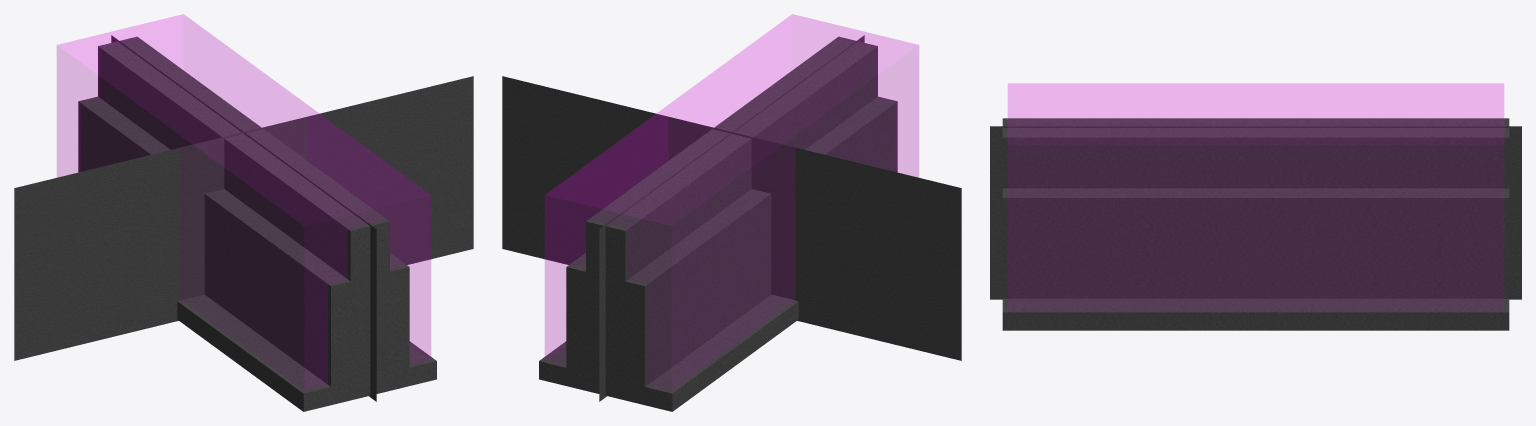
File: krail_dark_2m.dae
3 views of the same model, side by side, from view 1: azimuth 30°, elevation 25°; view 2: azimuth 150°, elevation 25°; view 3: azimuth 270°, elevation 25° (orthographic).
Parts seen in each view (by area): view 1: Colmesh_krail-1, krail_dark_2m_a50, krail_dark_2m_a800, krail_dark_2m_a200; view 2: Colmesh_krail-1, krail_dark_2m_a50, krail_dark_2m_a800, krail_dark_2m_a200; view 3: krail_dark_2m_a800, Colmesh_krail-1, krail_dark_2m_a200, krail_dark_2m_a50.
Part boxes in pixels (x1,y1,x2,y2): Colmesh_krail-1: (57, 14, 430, 390); krail_dark_2m_a50: (14, 35, 473, 401); krail_dark_2m_a800: (78, 36, 436, 411); krail_dark_2m_a200: (204, 214, 409, 386); Colmesh_krail-1: (545, 14, 918, 390); krail_dark_2m_a50: (502, 35, 961, 401); krail_dark_2m_a800: (539, 36, 897, 411); krail_dark_2m_a200: (568, 97, 897, 386); krail_dark_2m_a800: (1002, 118, 1509, 330); Colmesh_krail-1: (1008, 83, 1503, 309); krail_dark_2m_a200: (1002, 188, 1503, 298); krail_dark_2m_a50: (990, 126, 1521, 299).
Size of the model in its own units: 2.1 by 2.1 by 0.8074.
2 materials, 1 textured.
